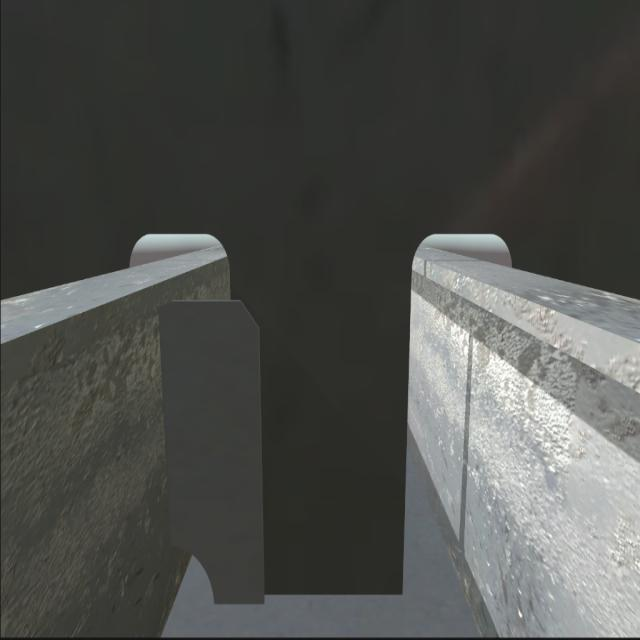fillet_hole: (168, 532, 214, 606)
fillet_yong_jeop_jang: (210, 583, 410, 613)
longi_yong_jeop_jang: (154, 303, 174, 539)
plate_CP03: (163, 303, 266, 605)
